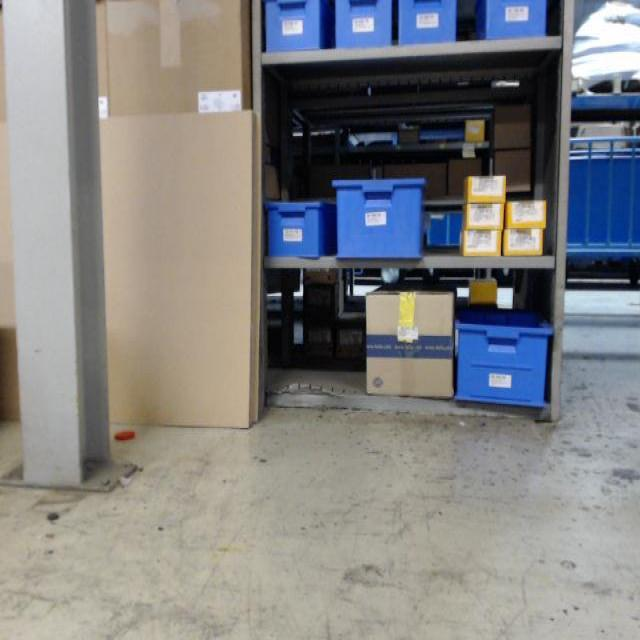small_load_carrier: (451, 311, 550, 408), (333, 176, 424, 262), (265, 200, 324, 259), (260, 1, 325, 52), (331, 0, 395, 50), (398, 1, 460, 44), (484, 2, 548, 39)
